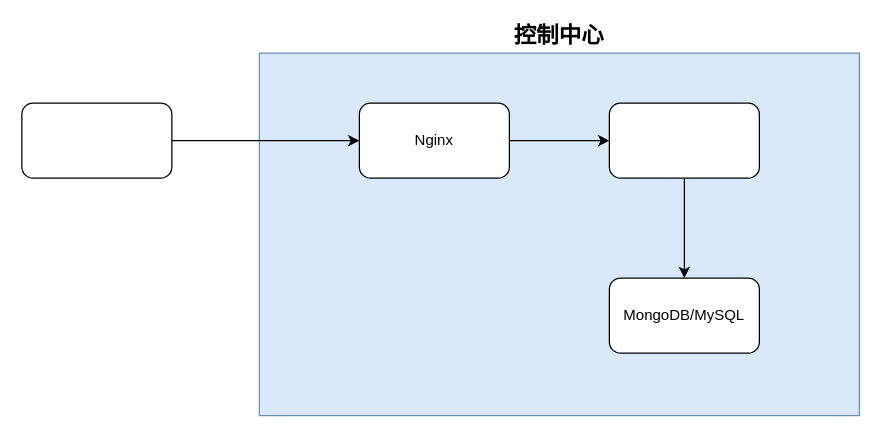
Some shapes in this 881 by 438 pixel diagram are drawn without their labels. The shapes that lost their labels are listed below. From the top down, each one's box as (x1, y1, x2, y2) in pixels, then its label:
(21, 102, 172, 178): 流控服务程序
(608, 102, 759, 178): Django
